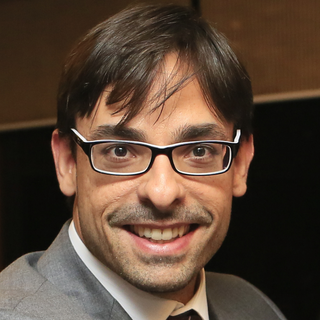eye: (175, 138, 220, 164), (94, 141, 141, 165)
